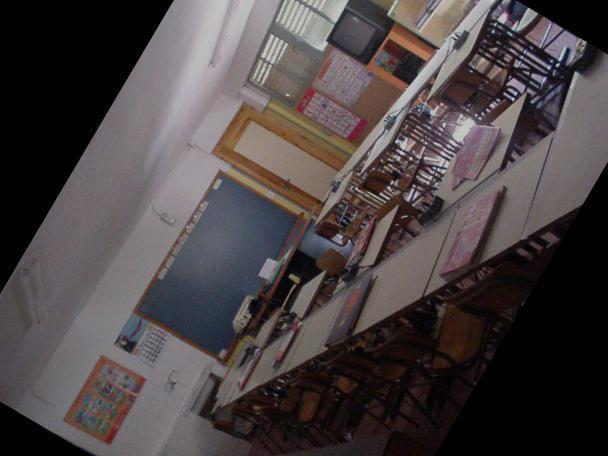Puerta: (219, 102, 345, 210)
